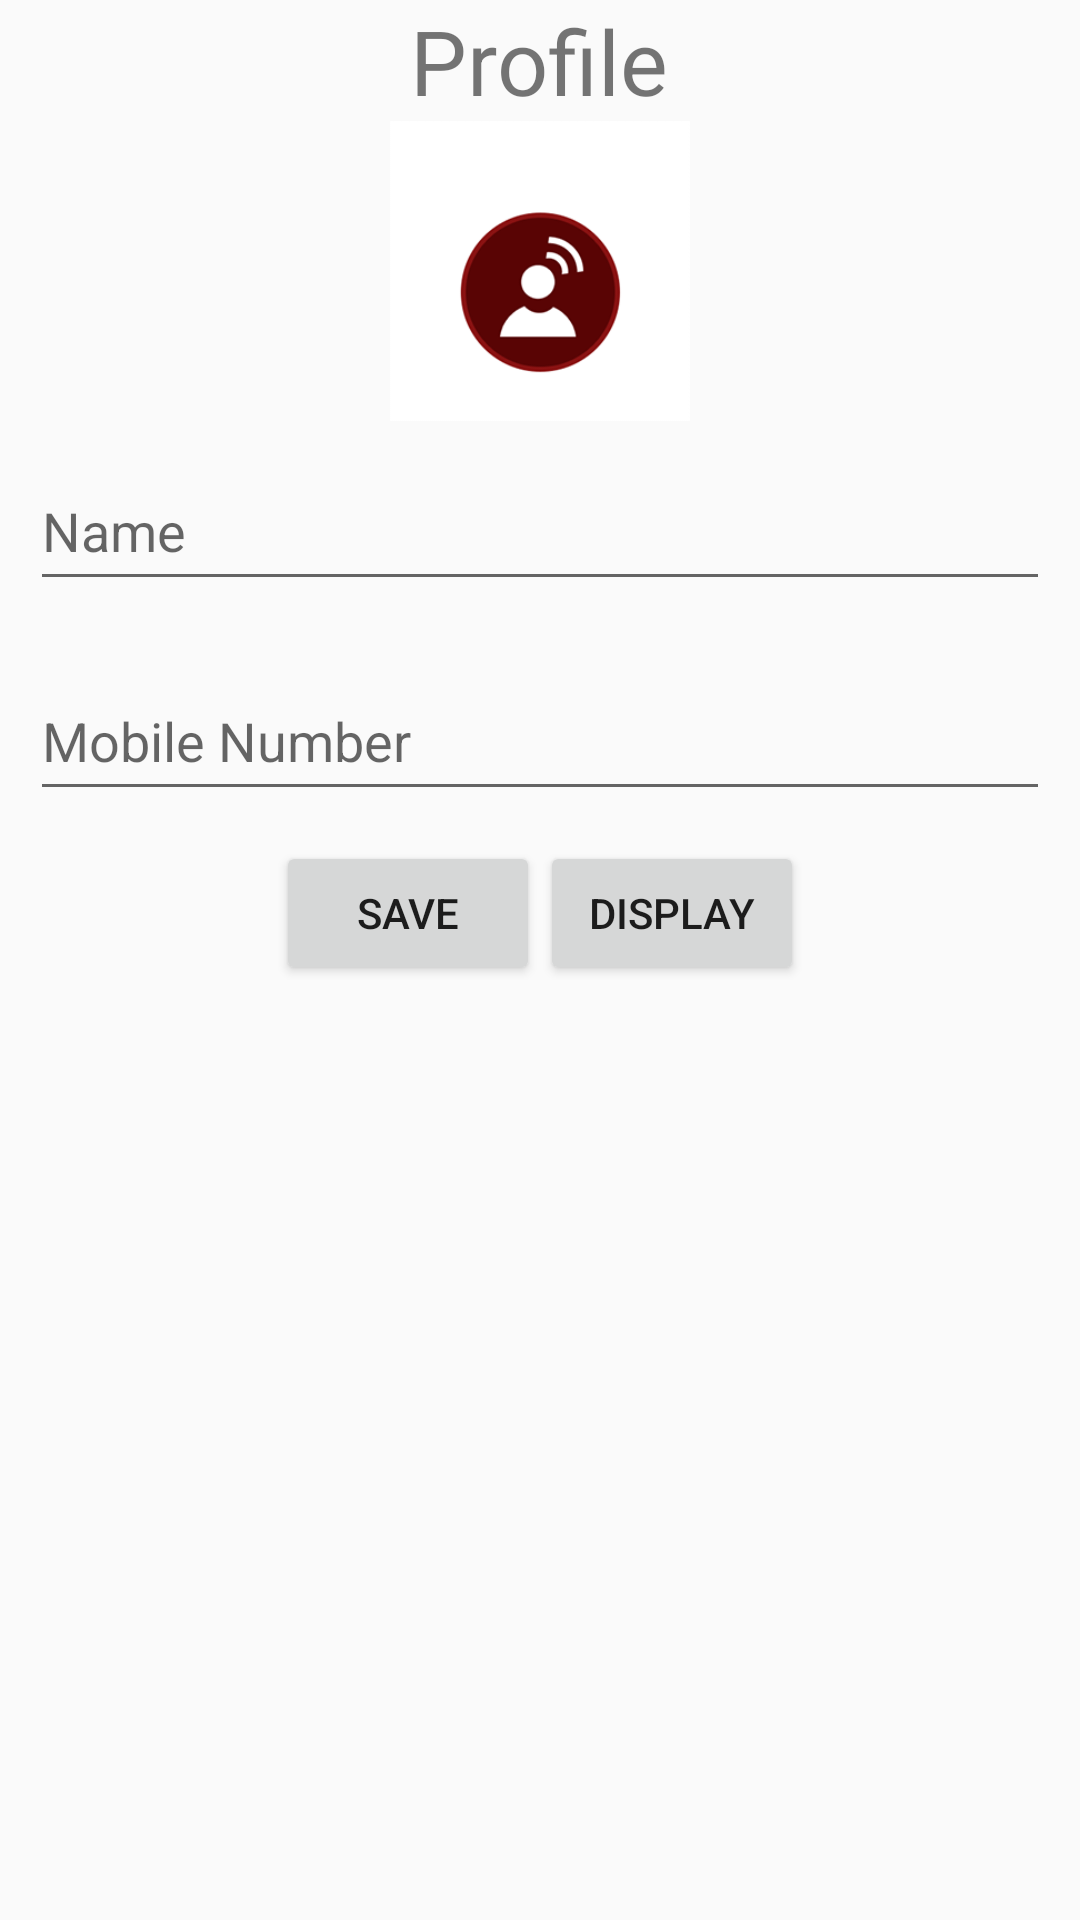

Icon bounding boxes for this 1080 × 1920 phone screenshot, format bbox=[x1, y1, x2, y2]:
contact picture: bbox=[460, 212, 620, 372]
